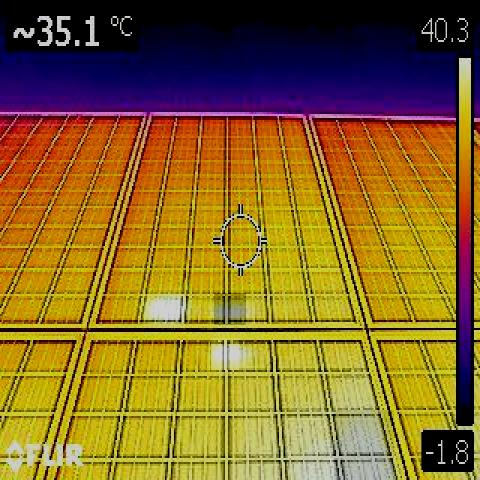fault: (334, 410, 394, 480), (143, 294, 184, 324), (214, 293, 246, 325), (212, 338, 240, 370)
